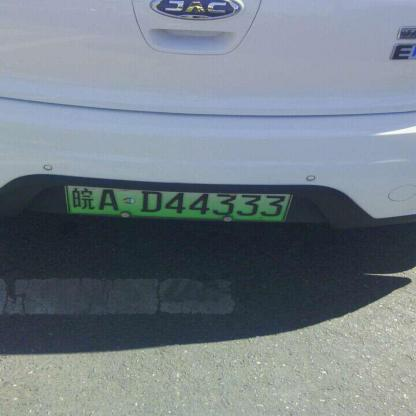lp: (65, 186, 291, 221)
